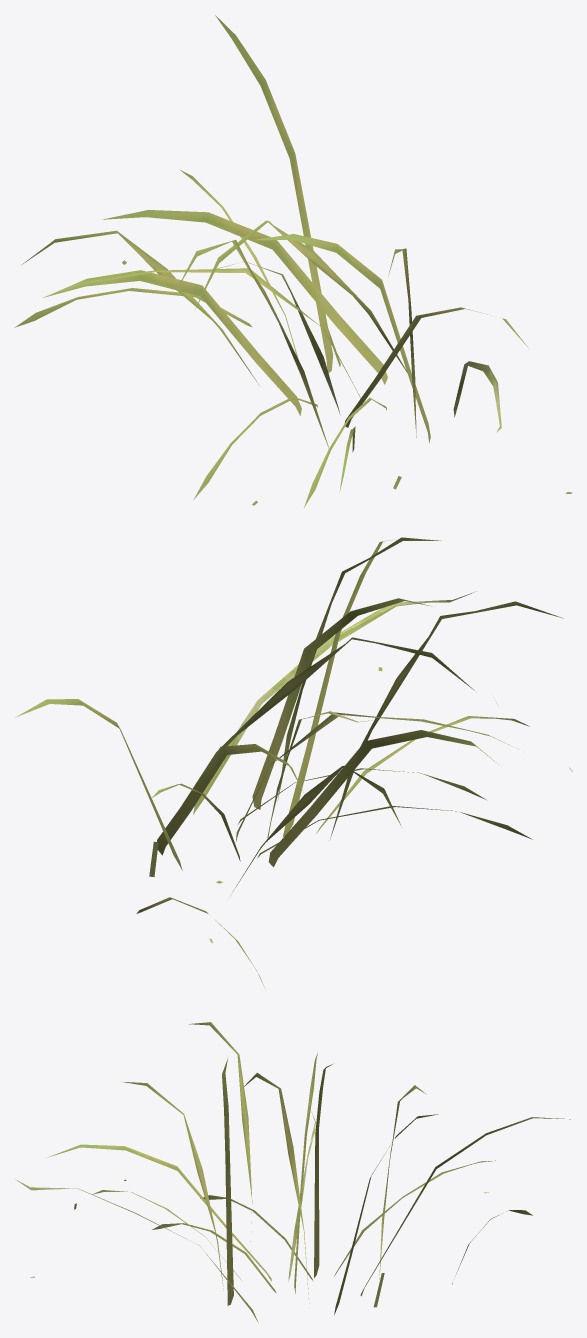
The model's file is grass_meadow_shadow.glb.
3 views of the same model, one above another, from view 1: azimuth 30°, elevation 25°; view 2: azimuth 150°, elevation 25°; view 3: azimuth 270°, elevation 25° (orthographic). The views are drawn at different scales.
Parts seen in each view (by area): view 1: bq_Grass_Bromus-erectus_A_winter; view 2: bq_Grass_Bromus-erectus_A_winter; view 3: bq_Grass_Bromus-erectus_A_winter.
Part boxes in pixels (box(x1,y1,x2,y2)): bq_Grass_Bromus-erectus_A_winter: box(14, 15, 572, 507); bq_Grass_Bromus-erectus_A_winter: box(15, 537, 572, 987); bq_Grass_Bromus-erectus_A_winter: box(15, 1022, 570, 1322).
Bounding box in the file's own units: 0.4641 × 0.3125 × 0.8047.
1 material, 1 textured.
